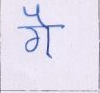au_matra: (31, 5, 57, 54)
